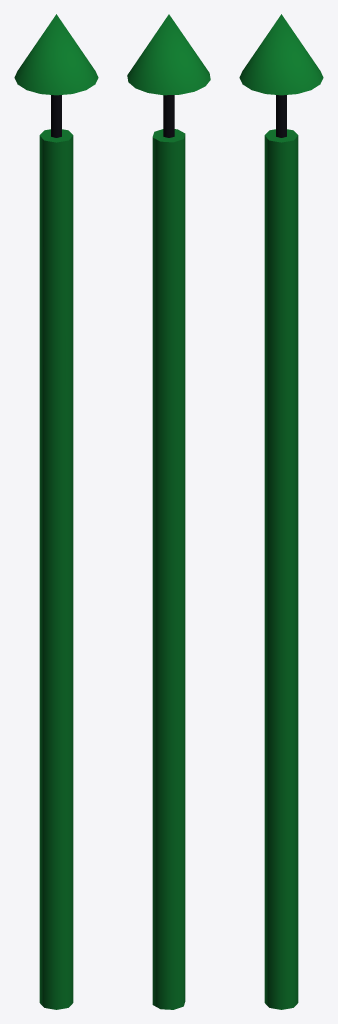
The model's file is stake_green_cone.glb.
3 renders of one model, left to right at view 1: azimuth 90°, elevation 25°; view 2: azimuth 150°, elevation 25°; view 3: azimuth 270°, elevation 25°, orthographic.
Visible parts, largest first — view 1: stake_green_cone; view 2: stake_green_cone; view 3: stake_green_cone.
Boxes of the visible parts, x1,y1,x2,y2 form: stake_green_cone: (14,14,98,1009); stake_green_cone: (127,14,210,1009); stake_green_cone: (239,14,323,1009).
Size of the model in its own units: 0.3958 by 5.13 by 0.3958.
